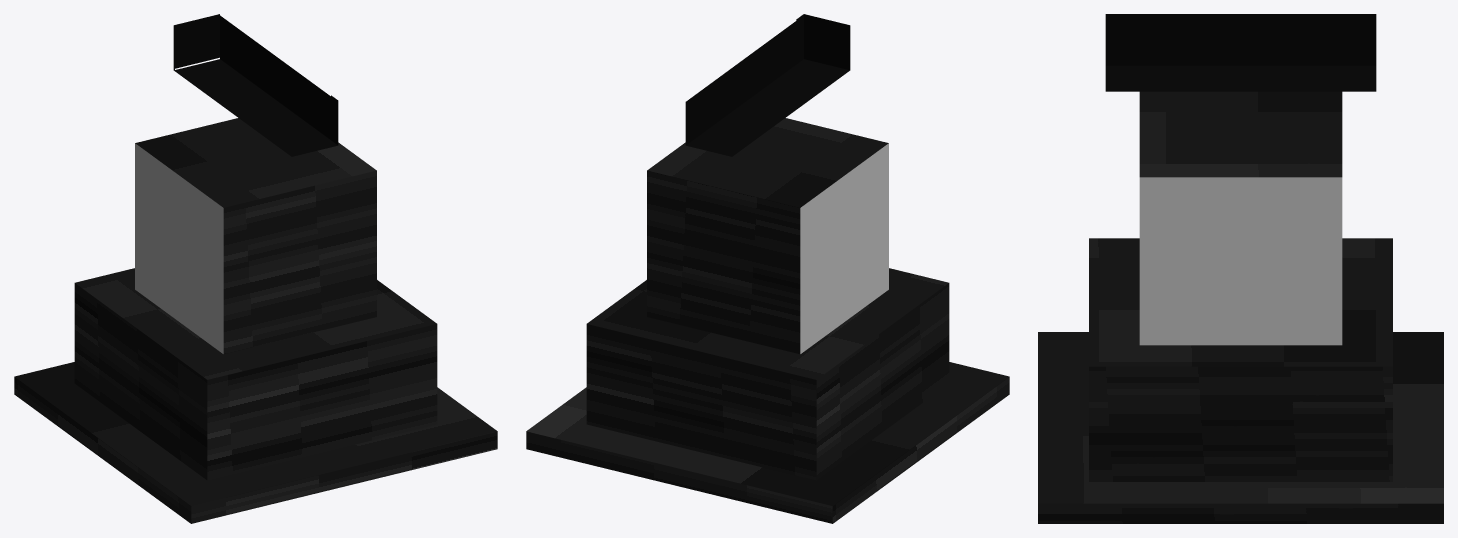
File: engineeringLaser.obj
The picture shows the model from 3 angles, left to right: view 1: azimuth 30°, elevation 25°; view 2: azimuth 150°, elevation 25°; view 3: azimuth 270°, elevation 25°; orthographic projection. The views are drawn at different scales.
Parts seen in each view (by area): view 1: Stand, Laser; view 2: Stand, Laser; view 3: Stand, Laser.
Boxes of the visible parts, left/top/right/bottom form: Stand: left=14, top=118, right=497, bottom=523; Laser: left=173, top=14, right=338, bottom=156; Stand: left=526, top=118, right=1009, bottom=523; Laser: left=685, top=14, right=850, bottom=156; Stand: left=1038, top=91, right=1443, bottom=523; Laser: left=1105, top=14, right=1376, bottom=91.
Bounding box in the file's own units: 0.9556 × 1.07 × 0.9556.
